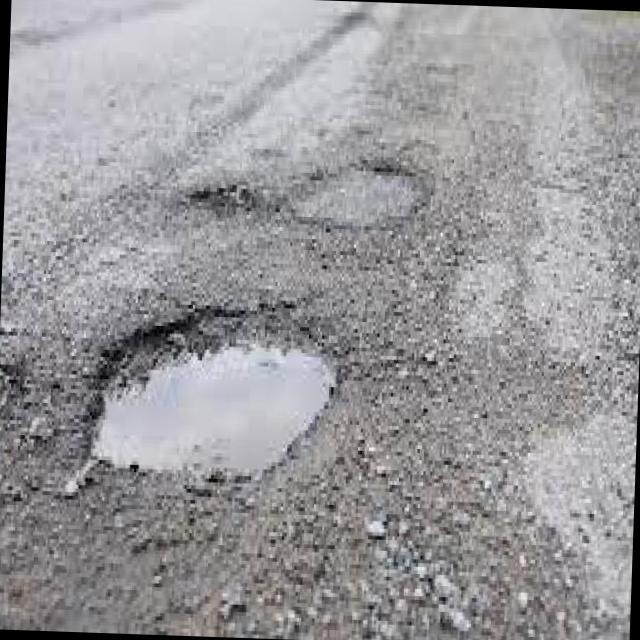pothole: (87, 341, 336, 481), (245, 164, 433, 233)
